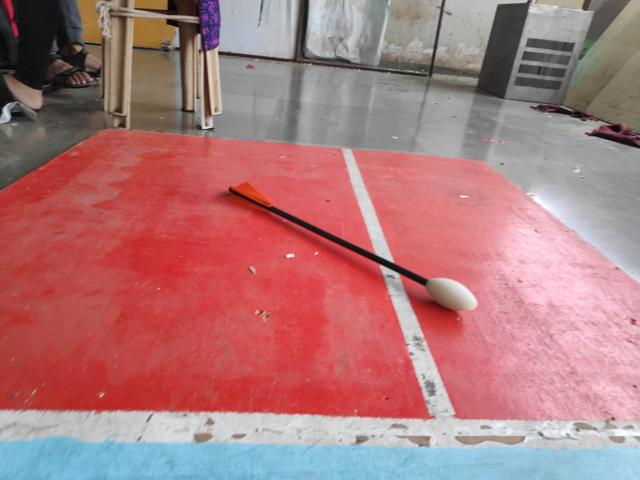Head: (427, 273, 480, 314)
